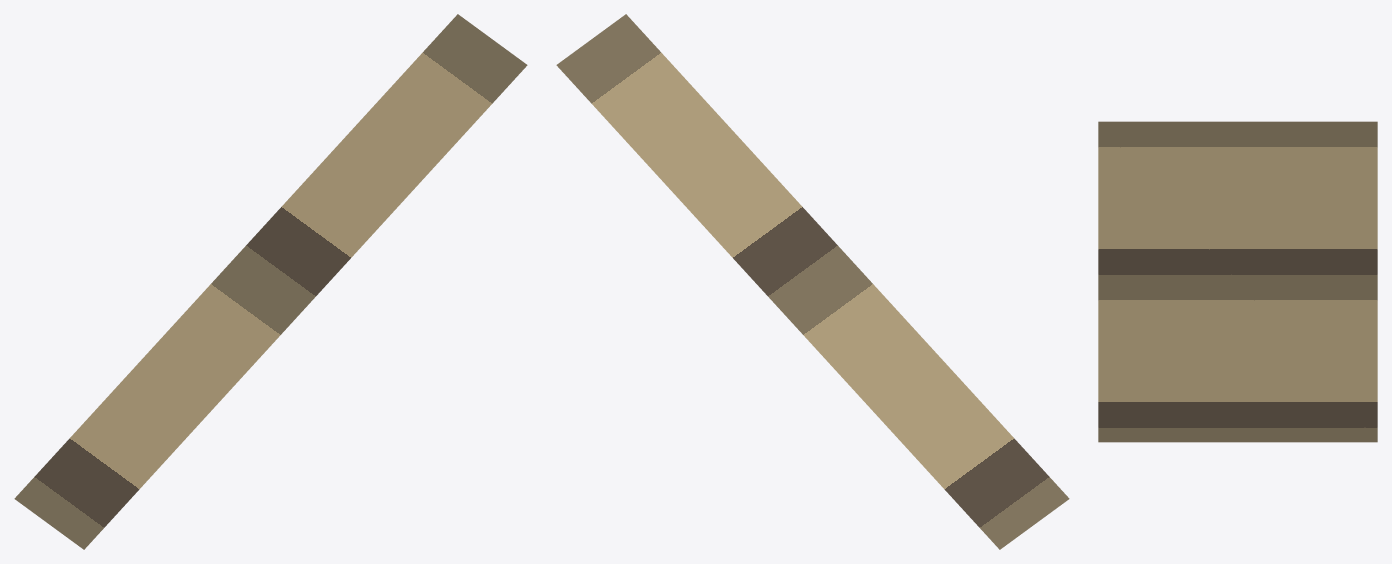
3 renders of one model, left to right at view 1: azimuth 30°, elevation 25°; view 2: azimuth 150°, elevation 25°; view 3: azimuth 270°, elevation 25°, orthographic. The views are drawn at different scales.
Bounding box in the file's own units: 0.6875 × 0.5578 × 0.1875.
Materials: 1 (1 with a texture image).
